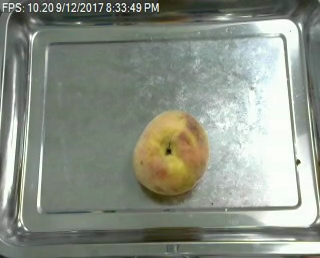Peach: (131, 109, 210, 195)
